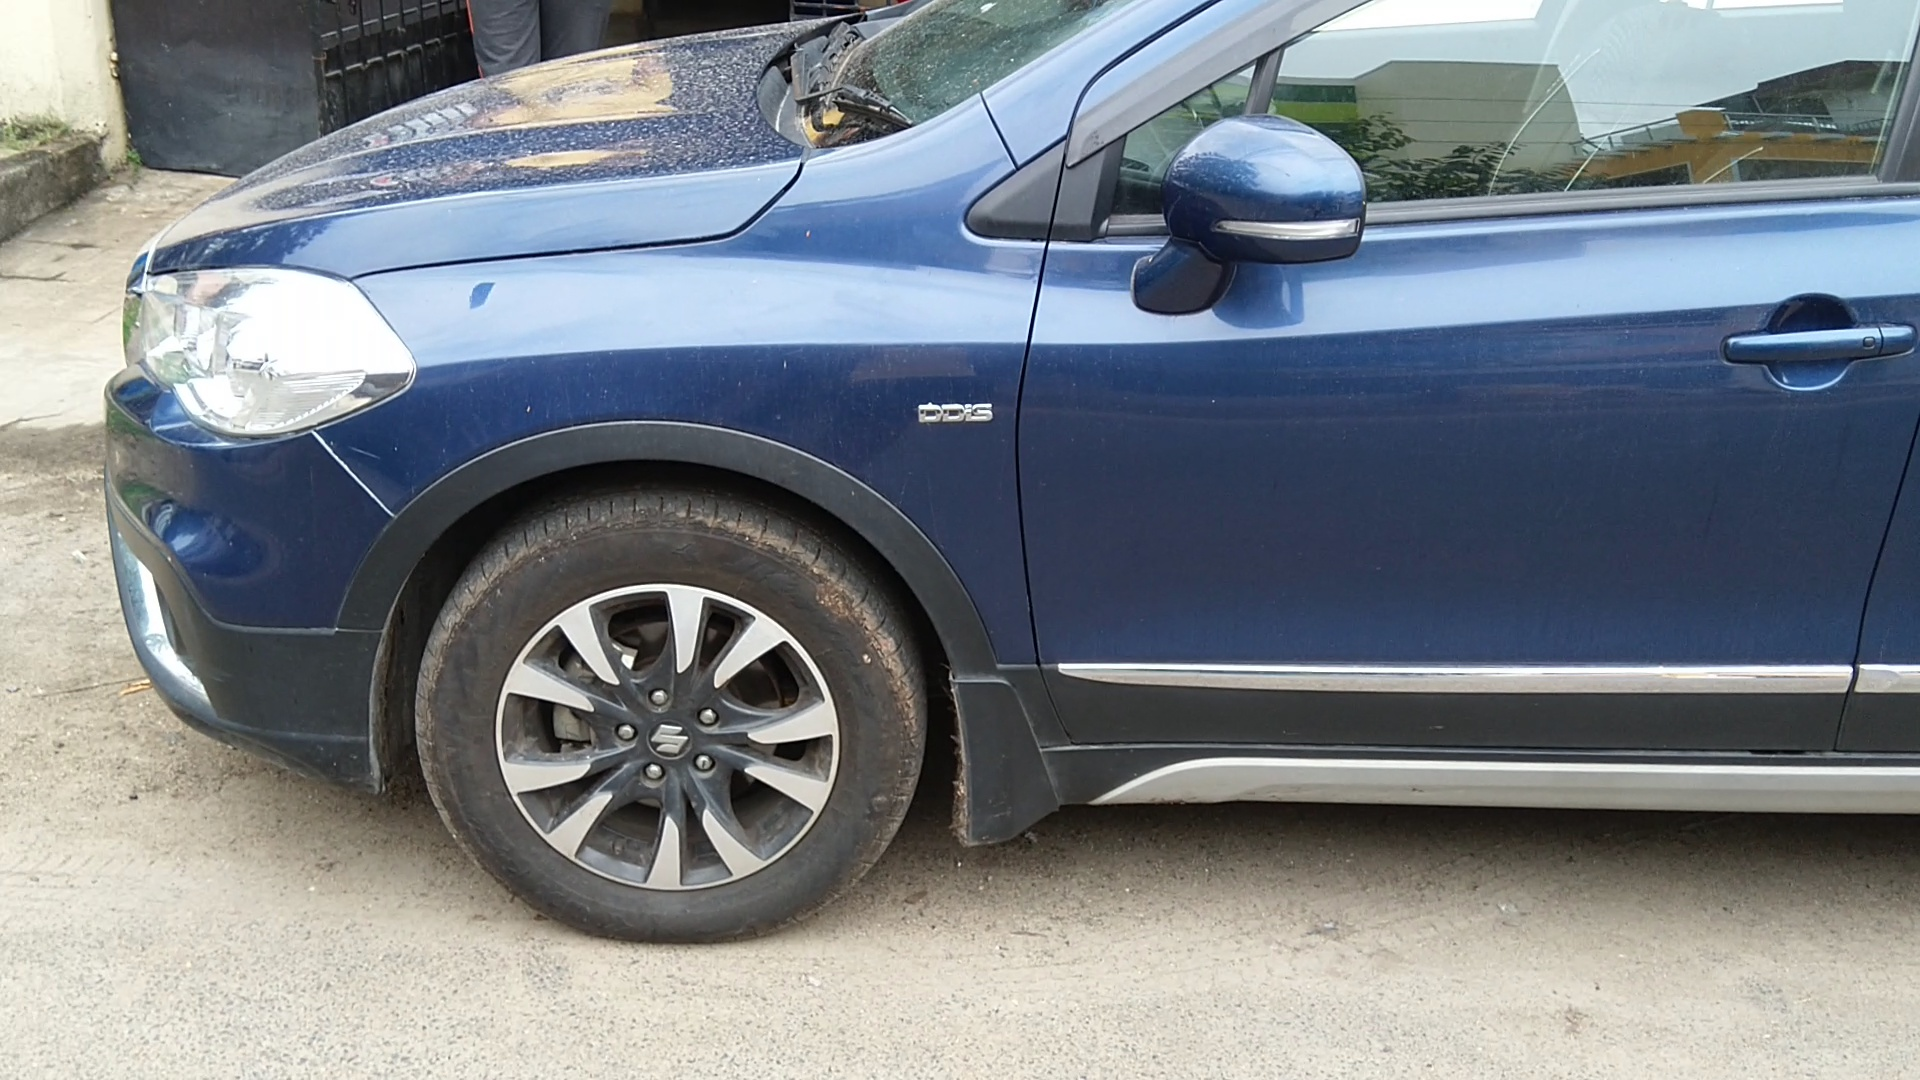alloy_wheel: (440, 505, 923, 955)
headlamp: (120, 258, 423, 463)
ovr_mirror: (1138, 111, 1373, 331)
